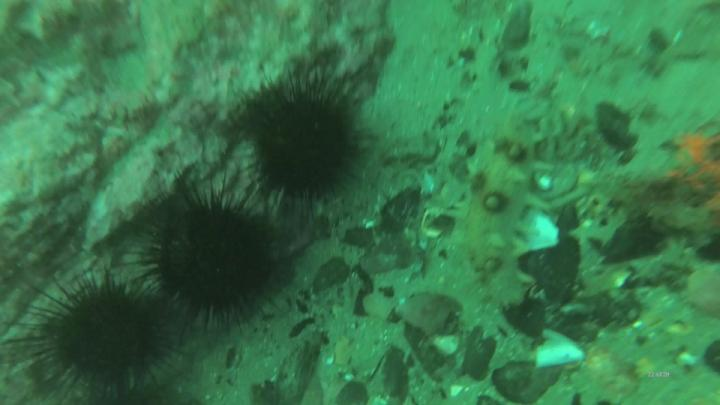echinus: (132, 177, 294, 334), (4, 269, 184, 405), (223, 65, 375, 223)
holothurian: (456, 115, 553, 308)
